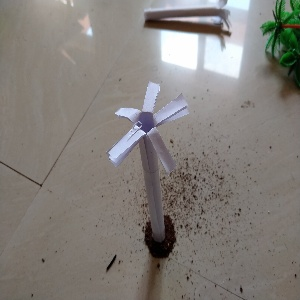weed: (103, 81, 193, 245)
